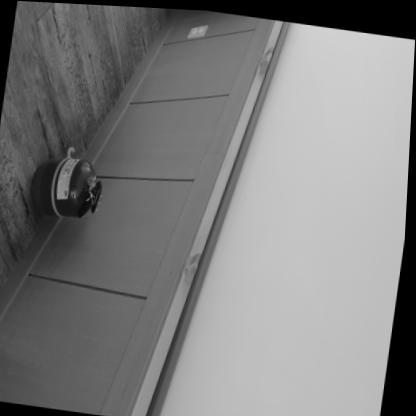FE: (30, 150, 110, 221)
